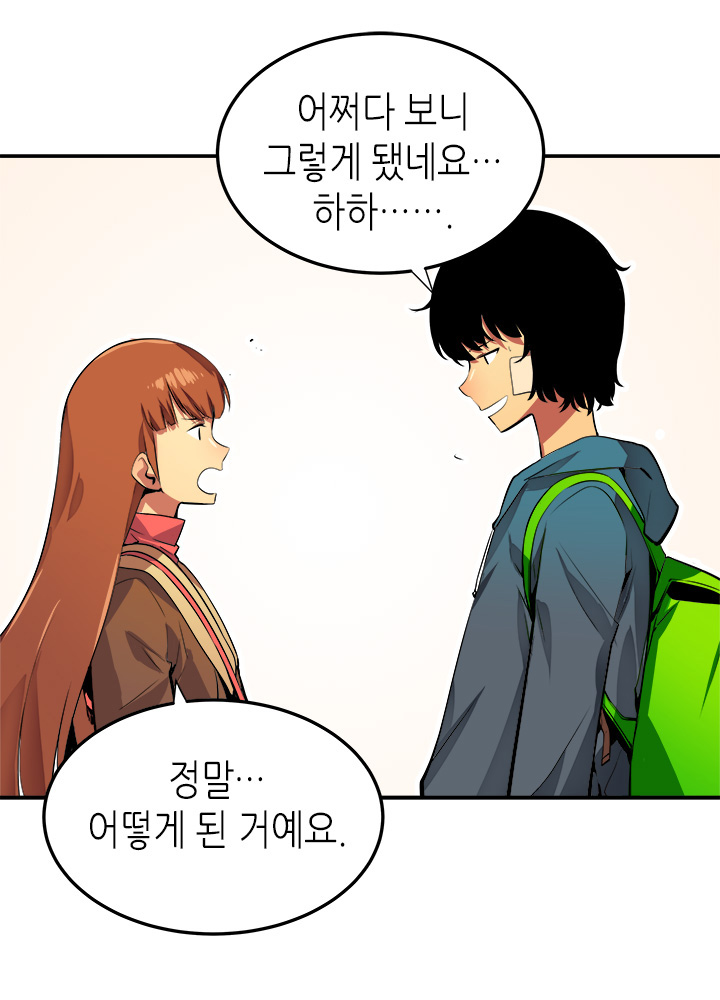dialog box: (190, 9, 587, 316), (16, 657, 417, 956)
text: (243, 53, 509, 253), (75, 731, 375, 890)
